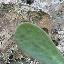Purslane: (12, 12, 64, 64)
